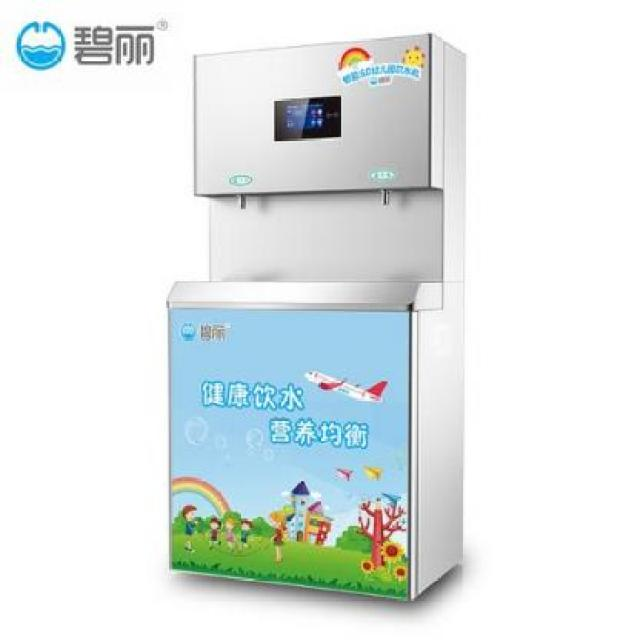cooler: (177, 38, 473, 600)
